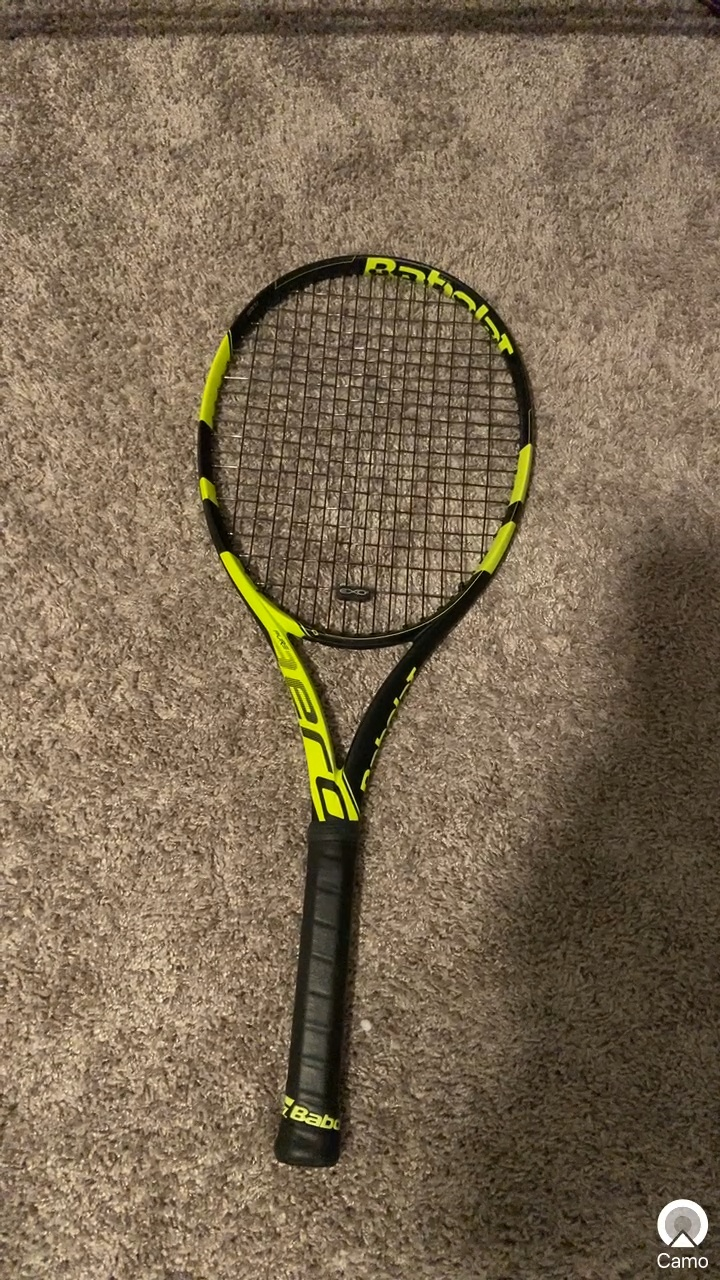Tennis_Racquet: (183, 247, 557, 1187)
